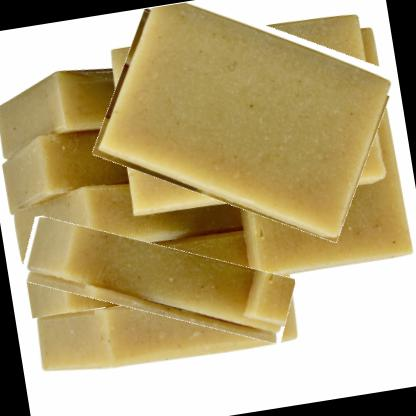soap: (84, 0, 405, 250), (15, 201, 300, 358), (27, 277, 307, 386)
